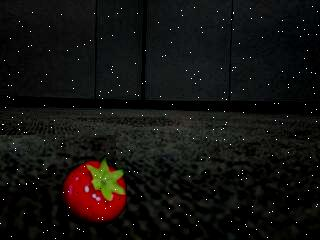Tomato: (58, 155, 129, 228)
